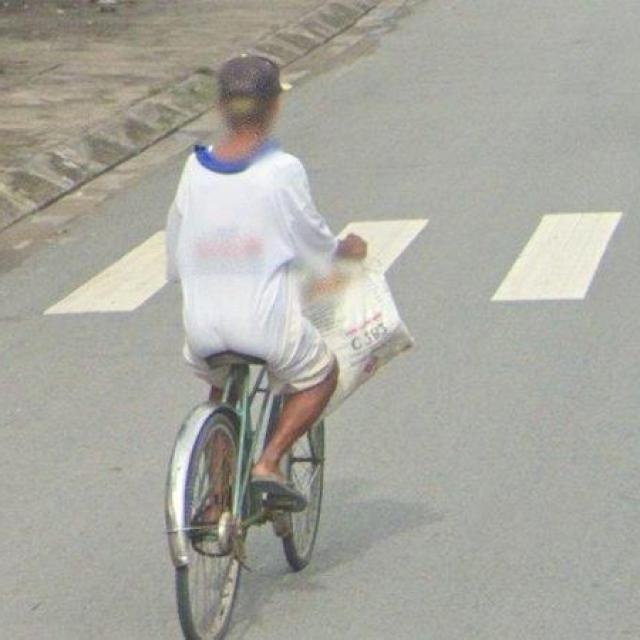bicycle: (128, 196, 420, 640)
